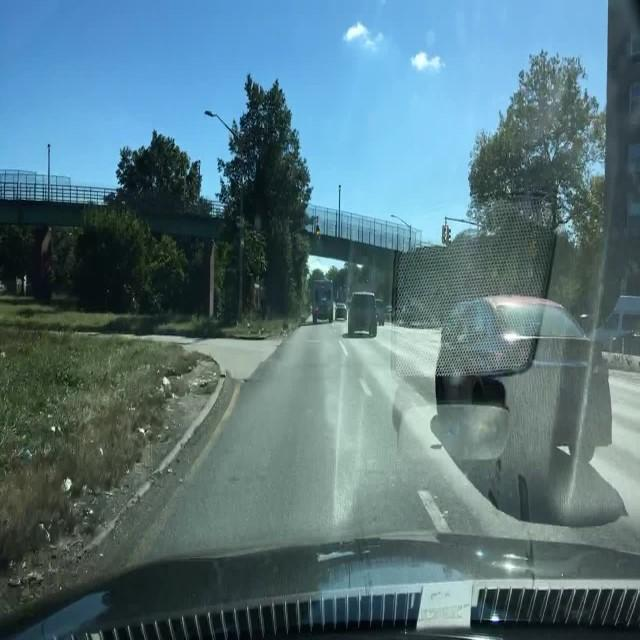normal: (410, 276, 628, 490), (339, 277, 387, 355)
